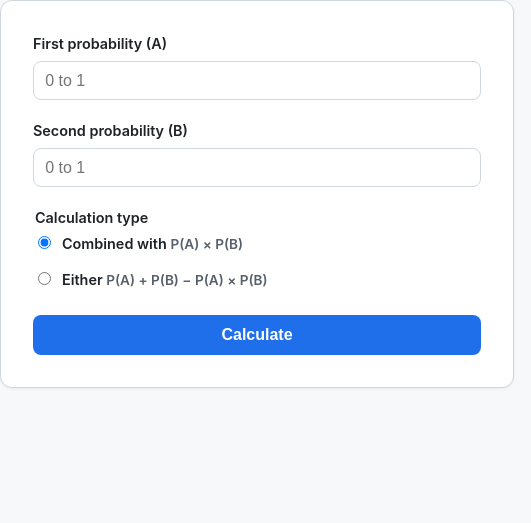
Test: CalculatorForm › submits valid input and displays the result
The width and height of the screenshot is (531, 523).
Type "0.5" into the number field labelled "First probability (A)".
click(257, 81); type("0.5")  # box x1=33 y1=61 x2=481 y2=100
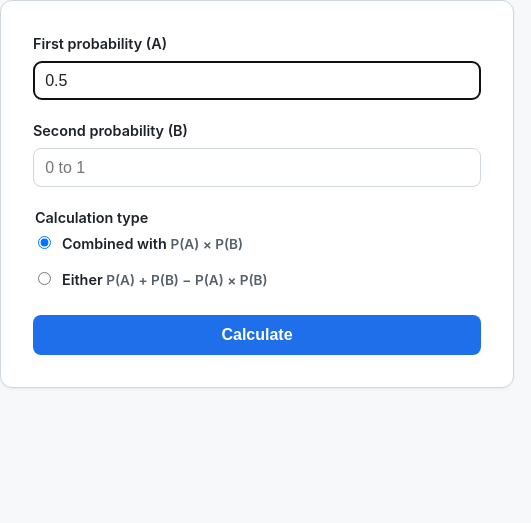
Type "0.4" into the number field labelled "Second probability (B)".
click(257, 168); type("0.4")  # box x1=33 y1=148 x2=481 y2=187
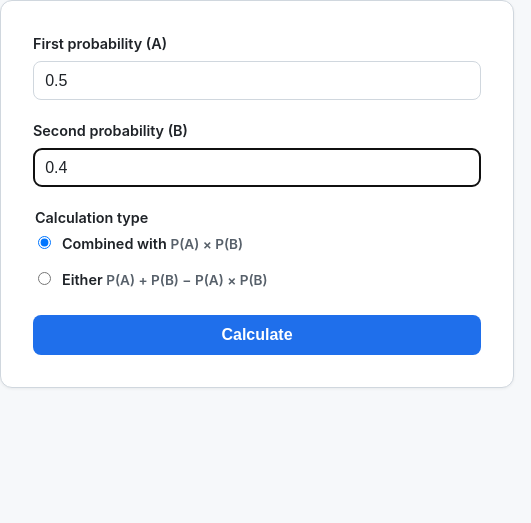
Click the button "Calculate".
click(257, 335)  # box x1=33 y1=315 x2=481 y2=355
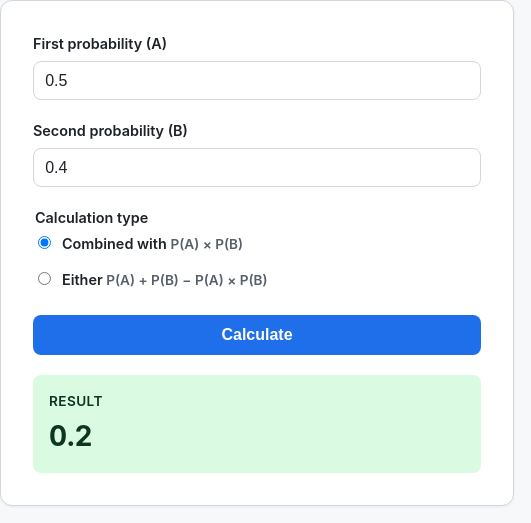
Result: the text "0.2" is shown at x1=49 y1=419 x2=93 y2=453
